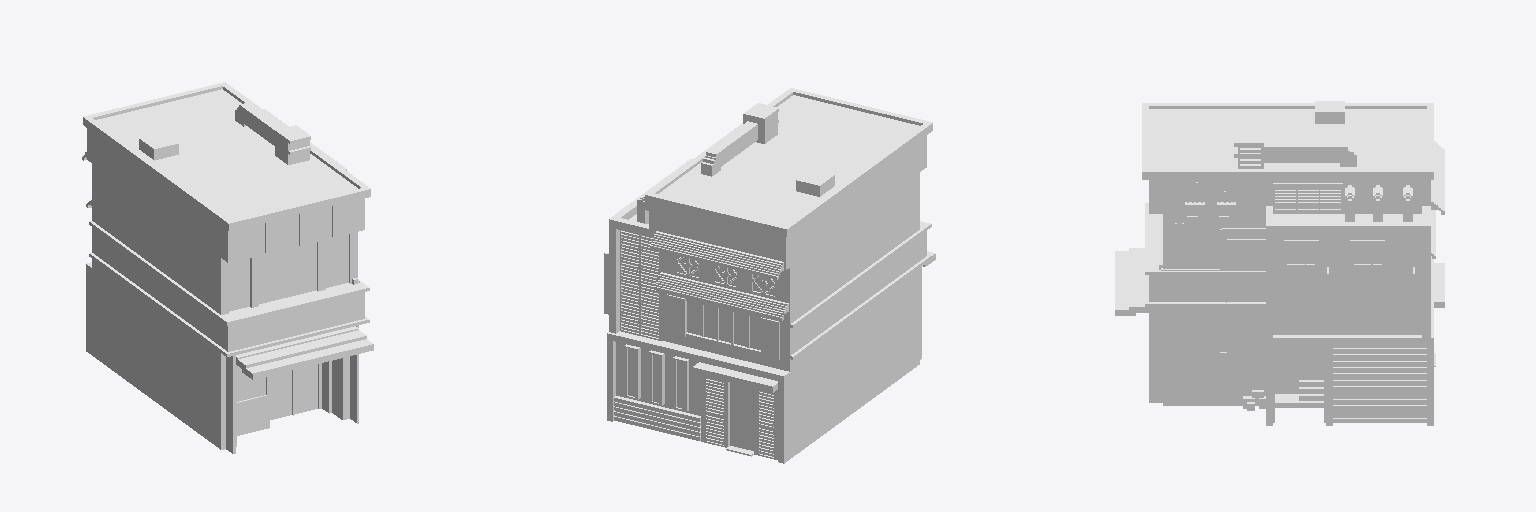
File: GDS2_Market-3.obj
3 renders of one model, left to right at view 1: azimuth 30°, elevation 25°; view 2: azimuth 150°, elevation 25°; view 3: azimuth 270°, elevation 25°, orthographic.
Parts seen in each view (by area): view 1: GDS2_Market-3; view 2: GDS2_Market-3; view 3: GDS2_Market-3.
Boxes of the visible parts, x1,y1,x2,y2 form: GDS2_Market-3: [82, 82, 373, 453]; GDS2_Market-3: [604, 88, 935, 463]; GDS2_Market-3: [1115, 101, 1444, 425].
Bounding box in the file's own units: 12.7 × 16.2 × 18.8.